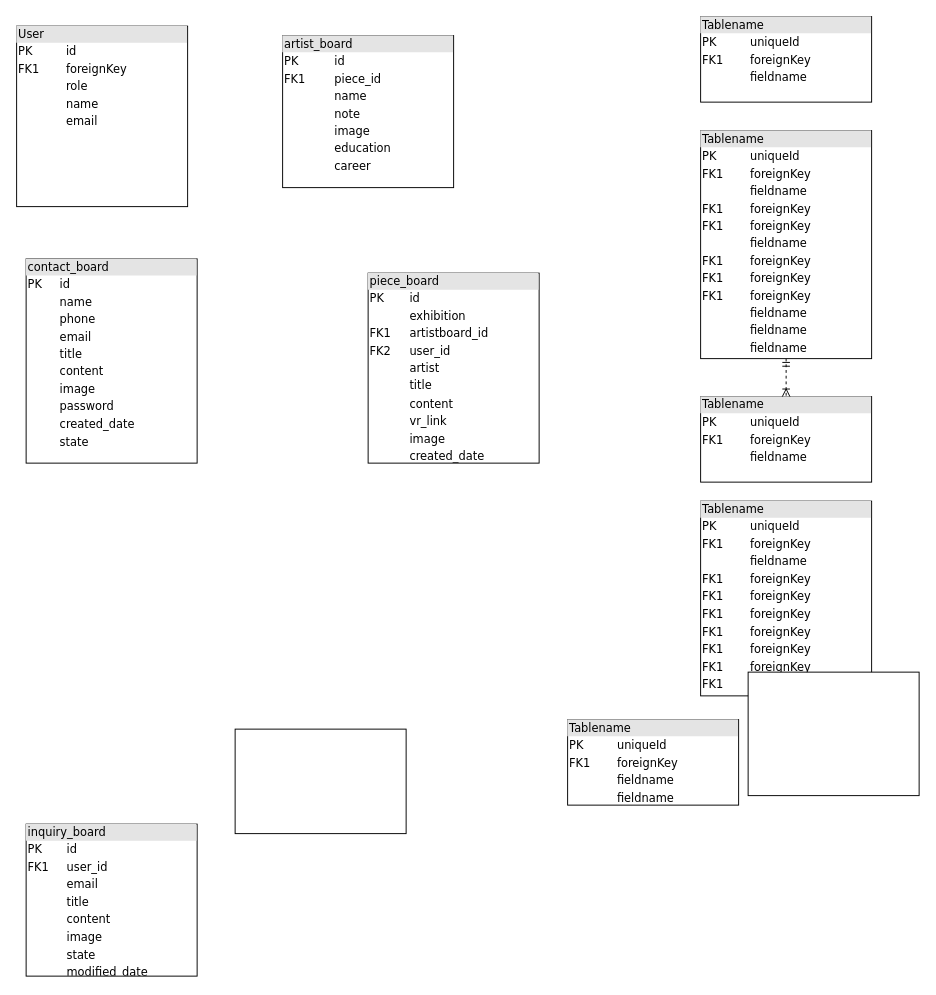
Image size: 936x995. Some labels were removed from this diagram. Here are the shapes that lost their labels. From the top down, the box of each, then its label:
(747, 671, 919, 796): Tablename PK uniqueId FK1 foreignKey fieldname fieldname fieldname fieldname
(234, 728, 406, 834): artistcommunity_board PK id FK1 user_id title content FK1 foreignKey
